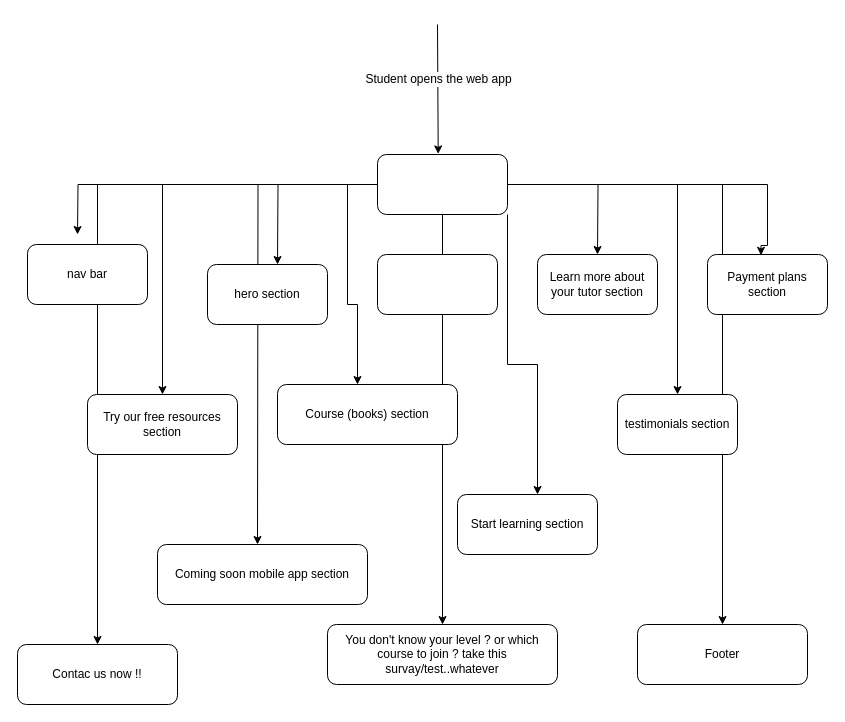
The diagram is 845 pixels wide and 722 high, and some of its shapes have lost their labels. Here are the shapes that lost their labels. From the top down, the centre of each, then its label:
pixel 442 184: He is in home page
pixel 437 284: (add this section, to be a replacement for the tutor videos)
